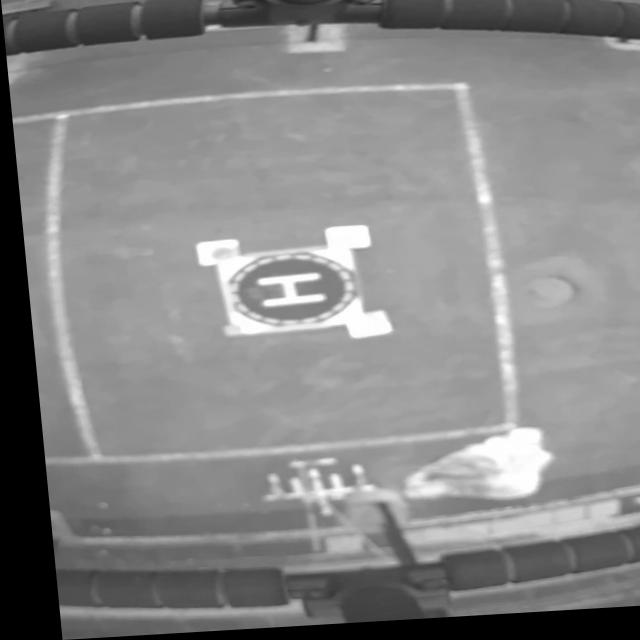Helipad: (247, 276, 318, 312)
